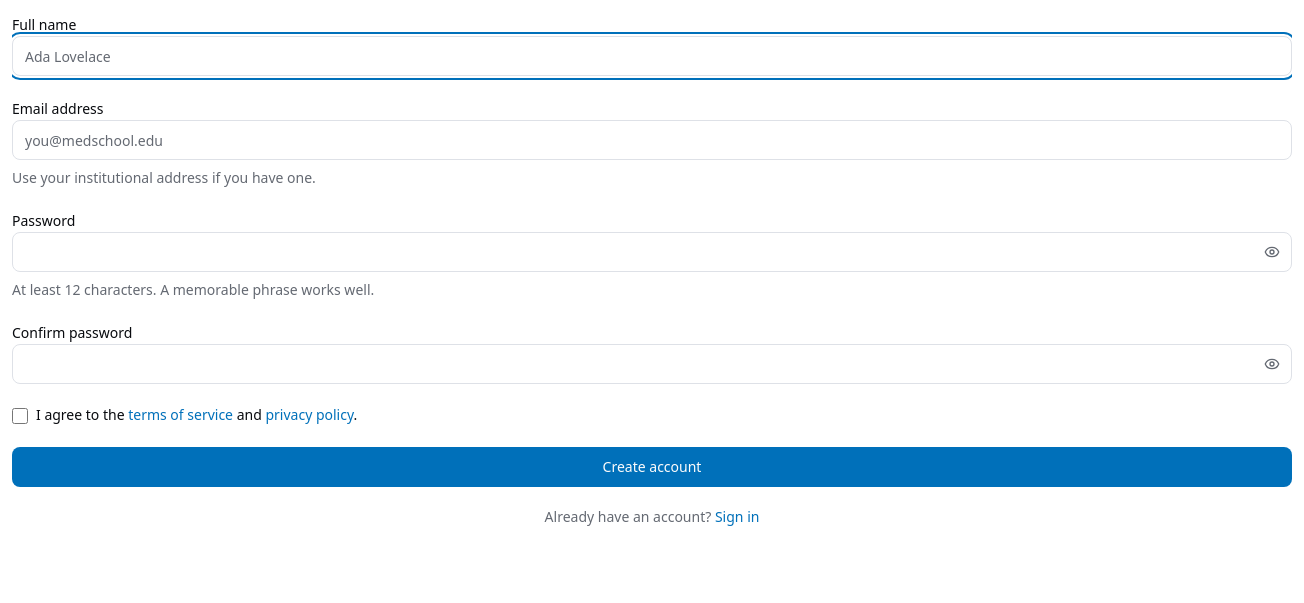
RegisterForm › rejects a password below the minimum length
The image size is (1304, 603).
Type "short1!" into the password field labelled "Password".
click(652, 252); type("short1!")  # box [12, 232, 1292, 272]
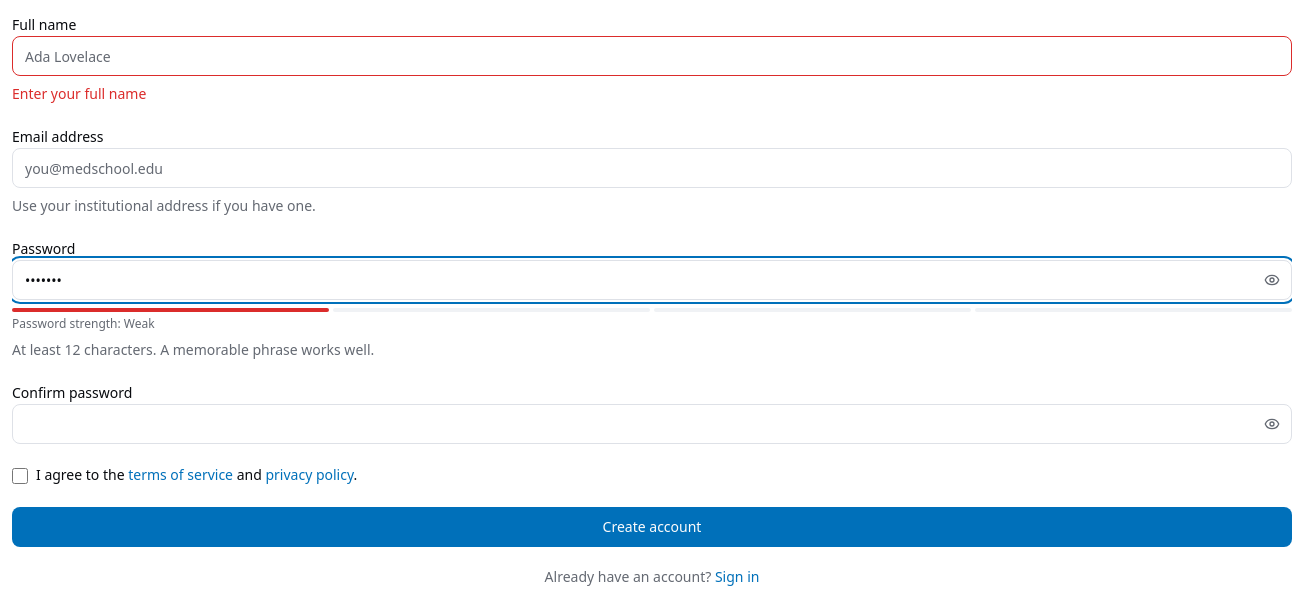
Press Tab
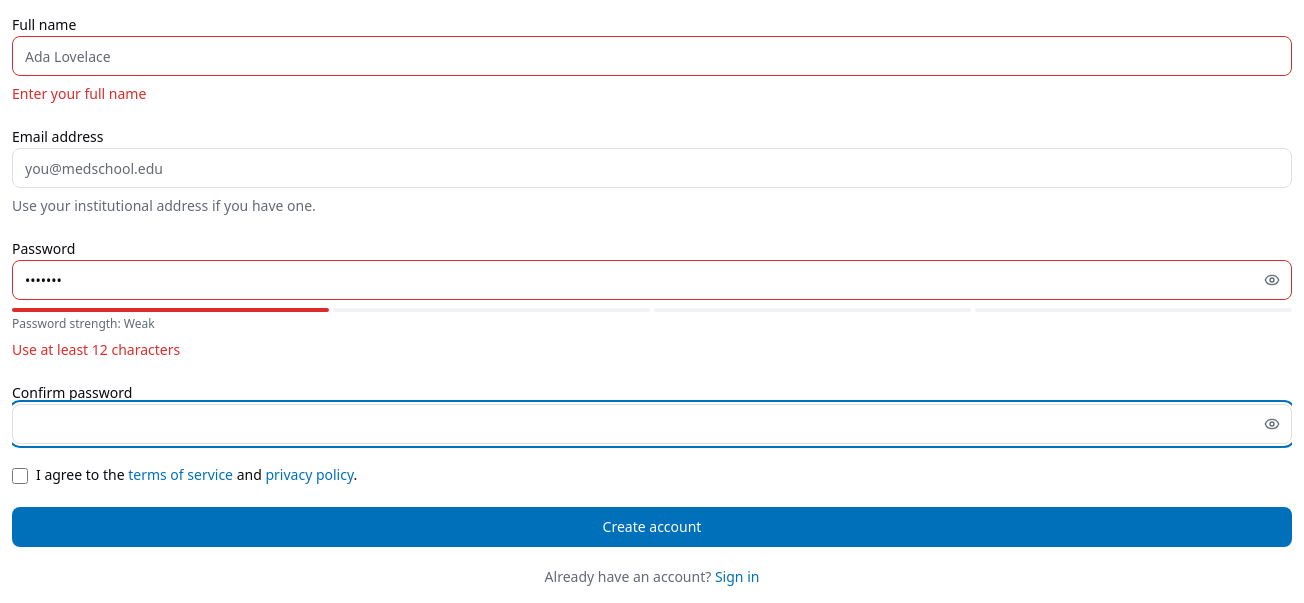
expect the text "Use at least 12 characters" is shown: met, box [12, 340, 180, 359]
